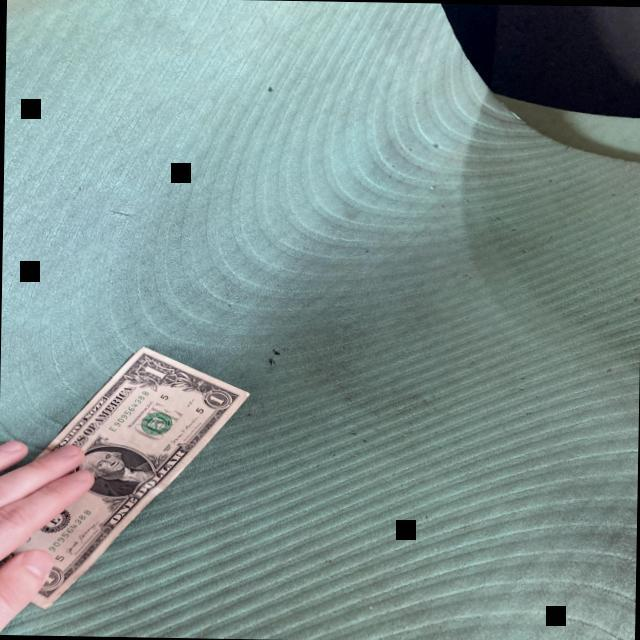one: (0, 344, 252, 611)
